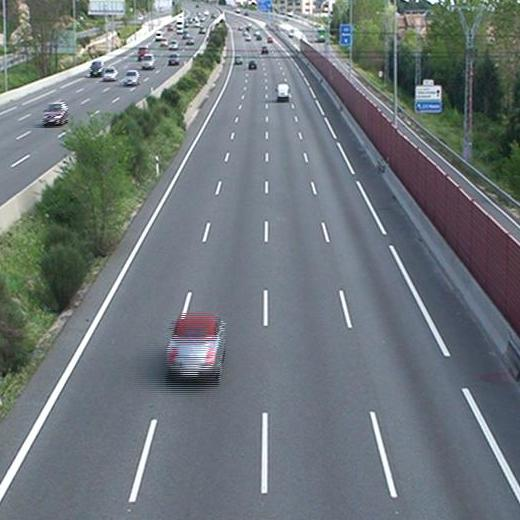car: (168, 316, 226, 378), (246, 61, 256, 71)
van: (276, 82, 289, 100)
